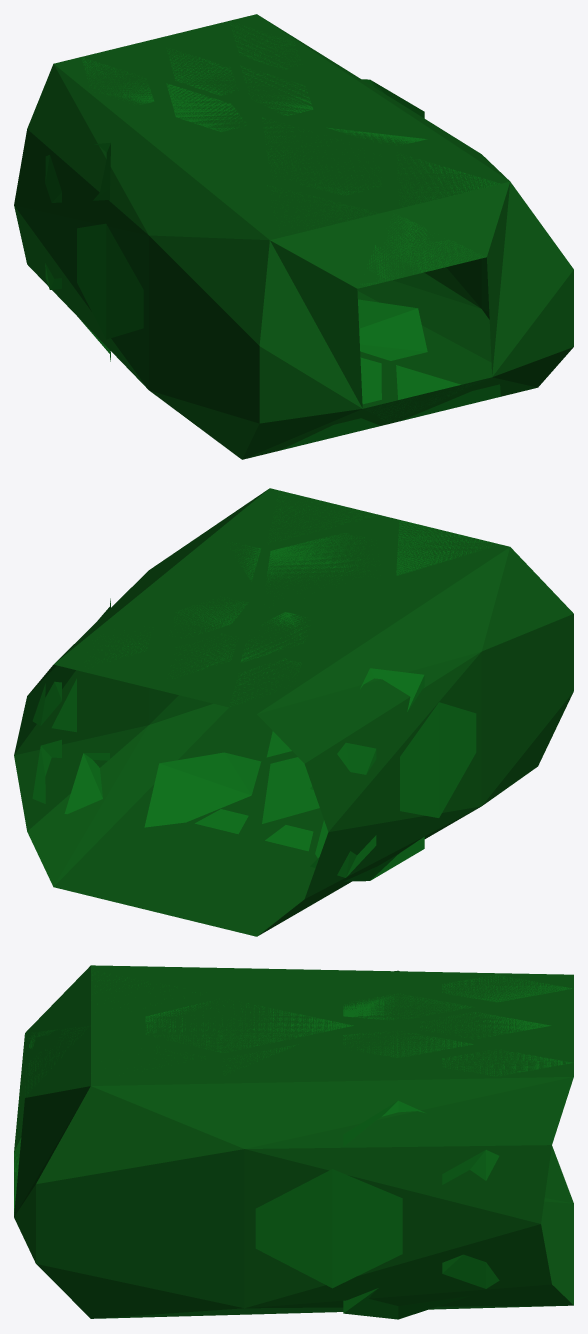
Rendered from inv_red_dragonhide_body.obj.
The picture shows the model from 3 angles, top to bottom: view 1: azimuth 30°, elevation 25°; view 2: azimuth 150°, elevation 25°; view 3: azimuth 270°, elevation 25°; orthographic projection. The views are drawn at different scales.
Bounding box in the file's own units: 0.2812 × 0.1797 × 0.3984.
